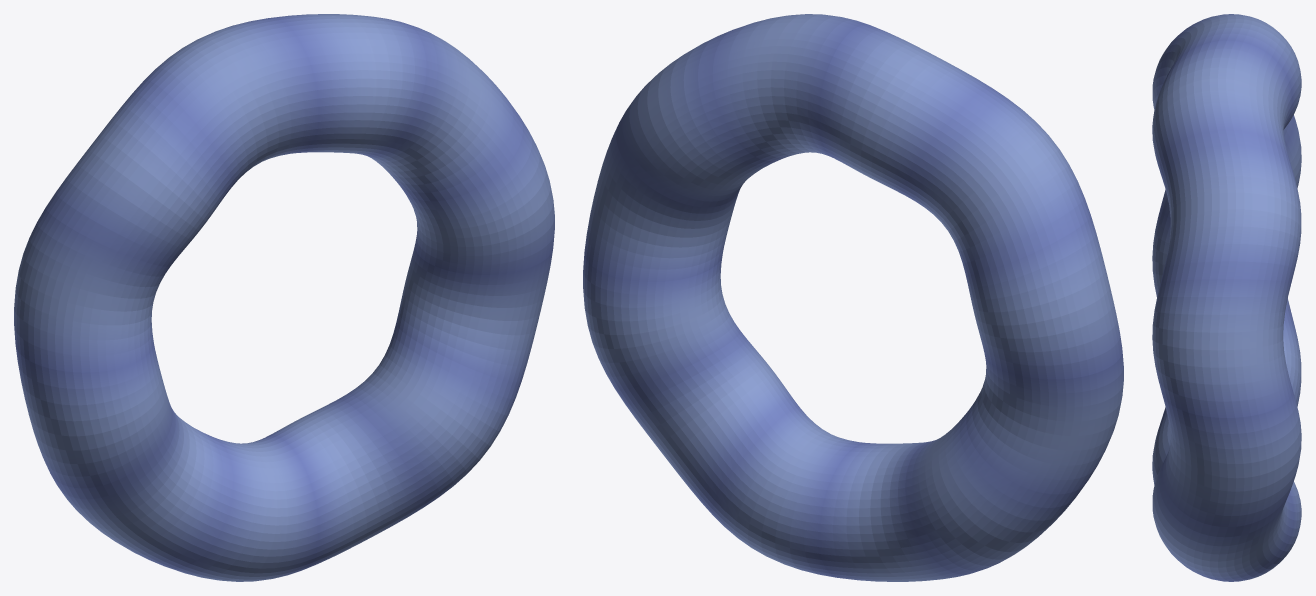
Rendered from step_2.glb.
3 renders of one model, left to right at view 1: azimuth 30°, elevation 25°; view 2: azimuth 150°, elevation 25°; view 3: azimuth 270°, elevation 25°, orthographic. The views are drawn at different scales.
Visible parts, largest first — view 1: world; view 2: world; view 3: world.
Boxes of the visible parts, x1,y1,x2,y2 form: world: (14,14,554,581); world: (583,14,1123,581); world: (1152,14,1301,581).
Bounding box in the file's own units: 26 × 26 × 6.83.
